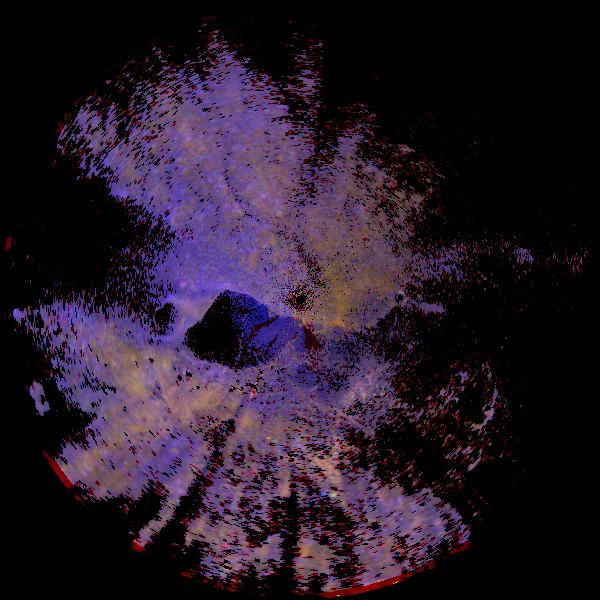roost: (55, 321, 157, 423)
